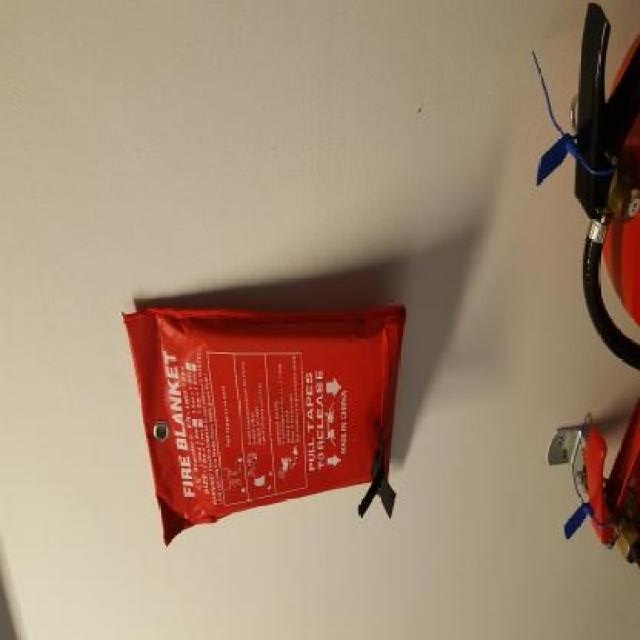fire extinguisher: (574, 4, 637, 373), (586, 402, 637, 567)
